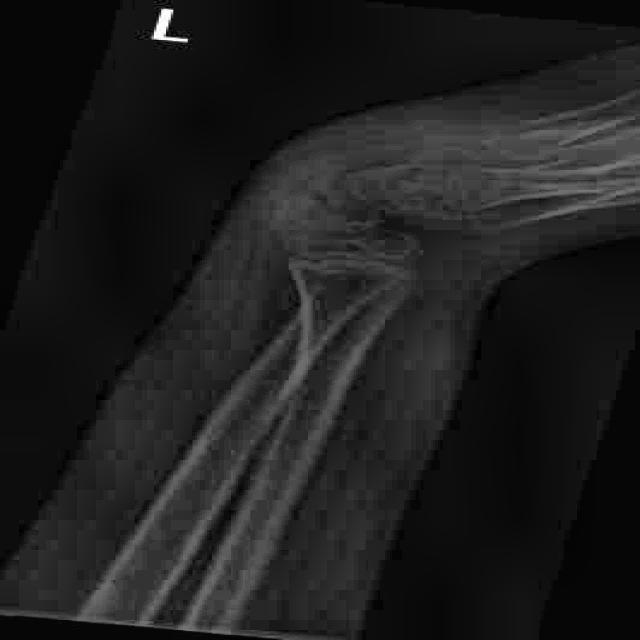wrist positive: (256, 242, 442, 286), (267, 157, 375, 209)
